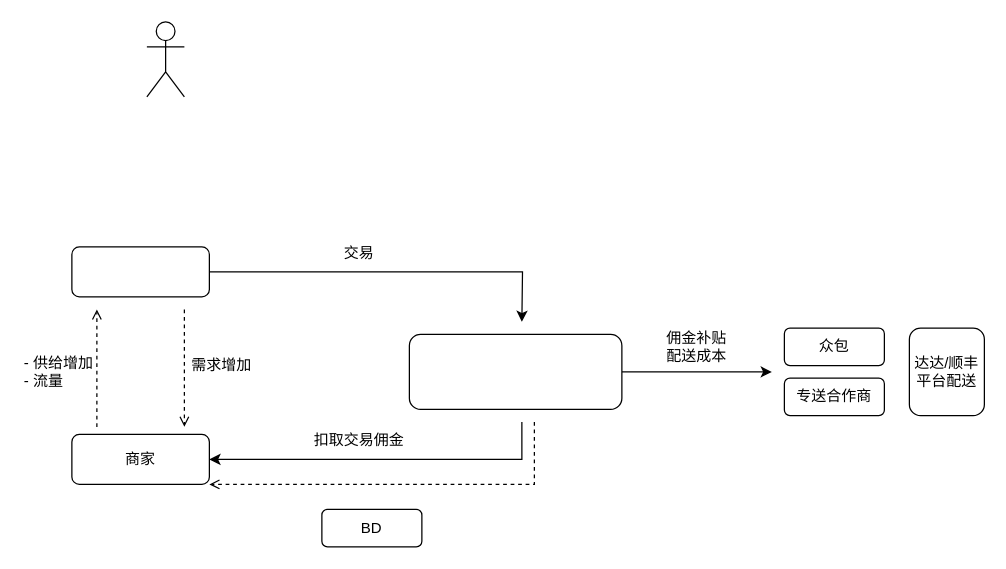
This 1006x569 diagram has some shape labels left out. The shapes that lost their labels are listed below. From the top down, each one's box as (x1, y1, x2, y2) in pixels, then its label:
(146, 21, 184, 97): Actor
(71, 246, 209, 297): 用户
(408, 333, 622, 409): 平台
